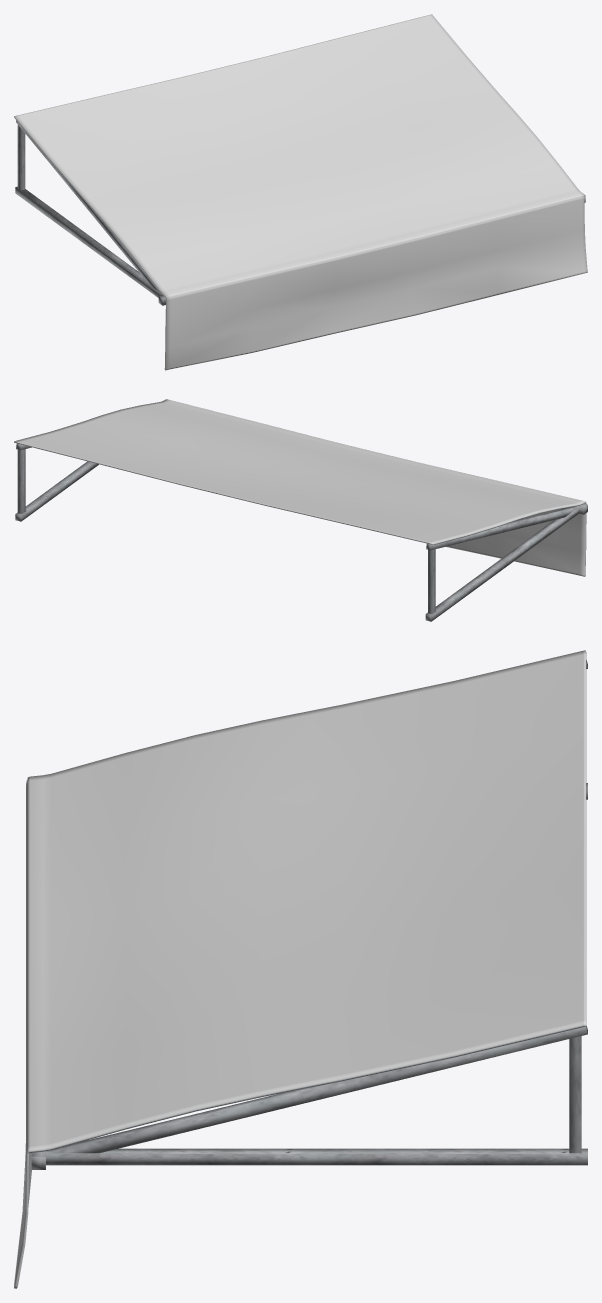
File: scene.lite.glb
The picture shows the model from 3 angles, top to bottom: view 1: azimuth 30°, elevation 25°; view 2: azimuth 150°, elevation 25°; view 3: azimuth 270°, elevation 25°; orthographic projection. The views are drawn at different scales.
Visible parts, largest first — view 1: Awning_Awning_0; view 2: Awning_Awning_0; view 3: Awning_Awning_0.
Part boxes in pixels (x1,y1,x2,y2): Awning_Awning_0: (14, 14, 587, 370); Awning_Awning_0: (14, 399, 587, 621); Awning_Awning_0: (14, 650, 587, 1288).
Size of the model in its own units: 3.81 by 1.28 by 2.44.
1 material, 1 textured.
